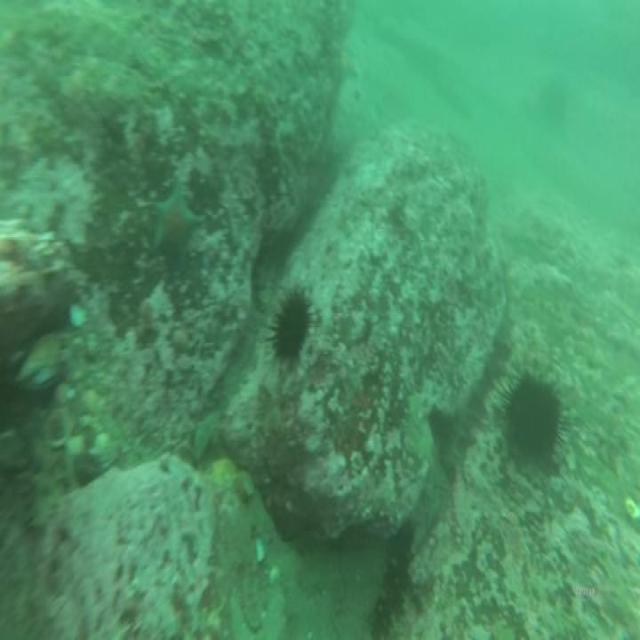echinus: (506, 374, 560, 462), (276, 294, 308, 360)
starfish: (150, 191, 198, 253)
